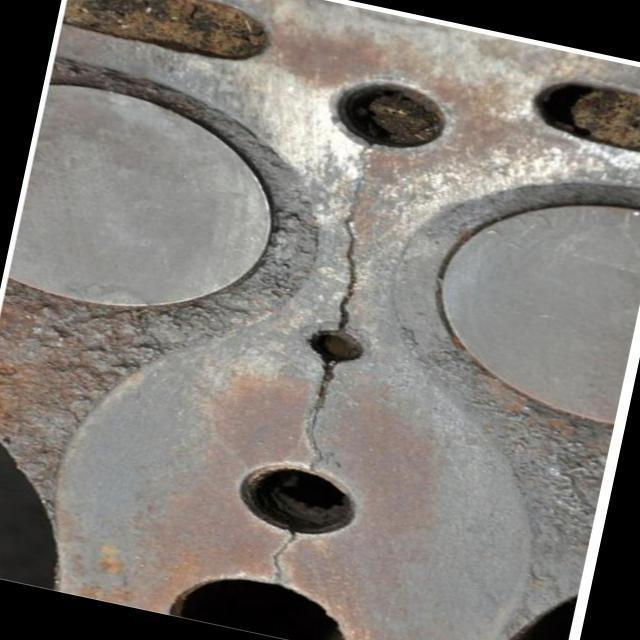defect: (333, 139, 384, 333), (299, 351, 346, 474), (268, 522, 298, 587)
